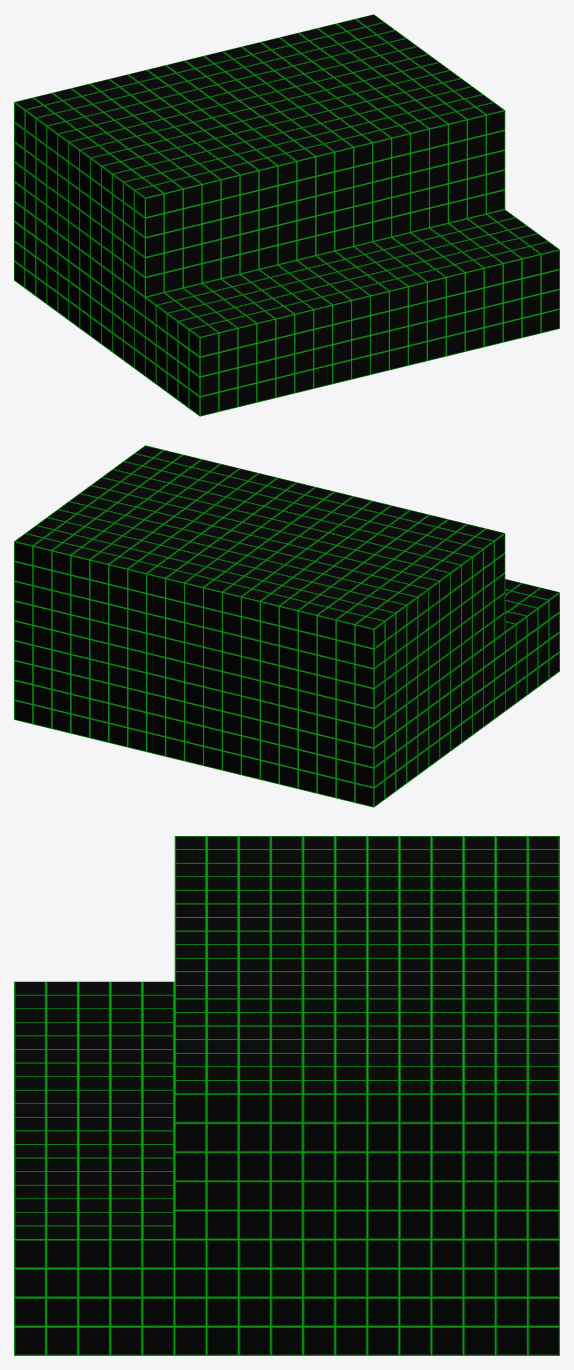
File: MainBackground.fbx
3 renders of one model, top to bottom at view 1: azimuth 30°, elevation 25°; view 2: azimuth 150°, elevation 25°; view 3: azimuth 270°, elevation 25°, orthographic. The views are drawn at different scales.
Parts seen in each view (by area): view 1: MainBackground; view 2: MainBackground; view 3: MainBackground.
Boxes of the visible parts, left/top/right/bottom form: MainBackground: left=14, top=14, right=559, bottom=416; MainBackground: left=14, top=445, right=559, bottom=807; MainBackground: left=14, top=836, right=559, bottom=1355.
Bounding box in the file's own units: 548 × 260 × 490.
